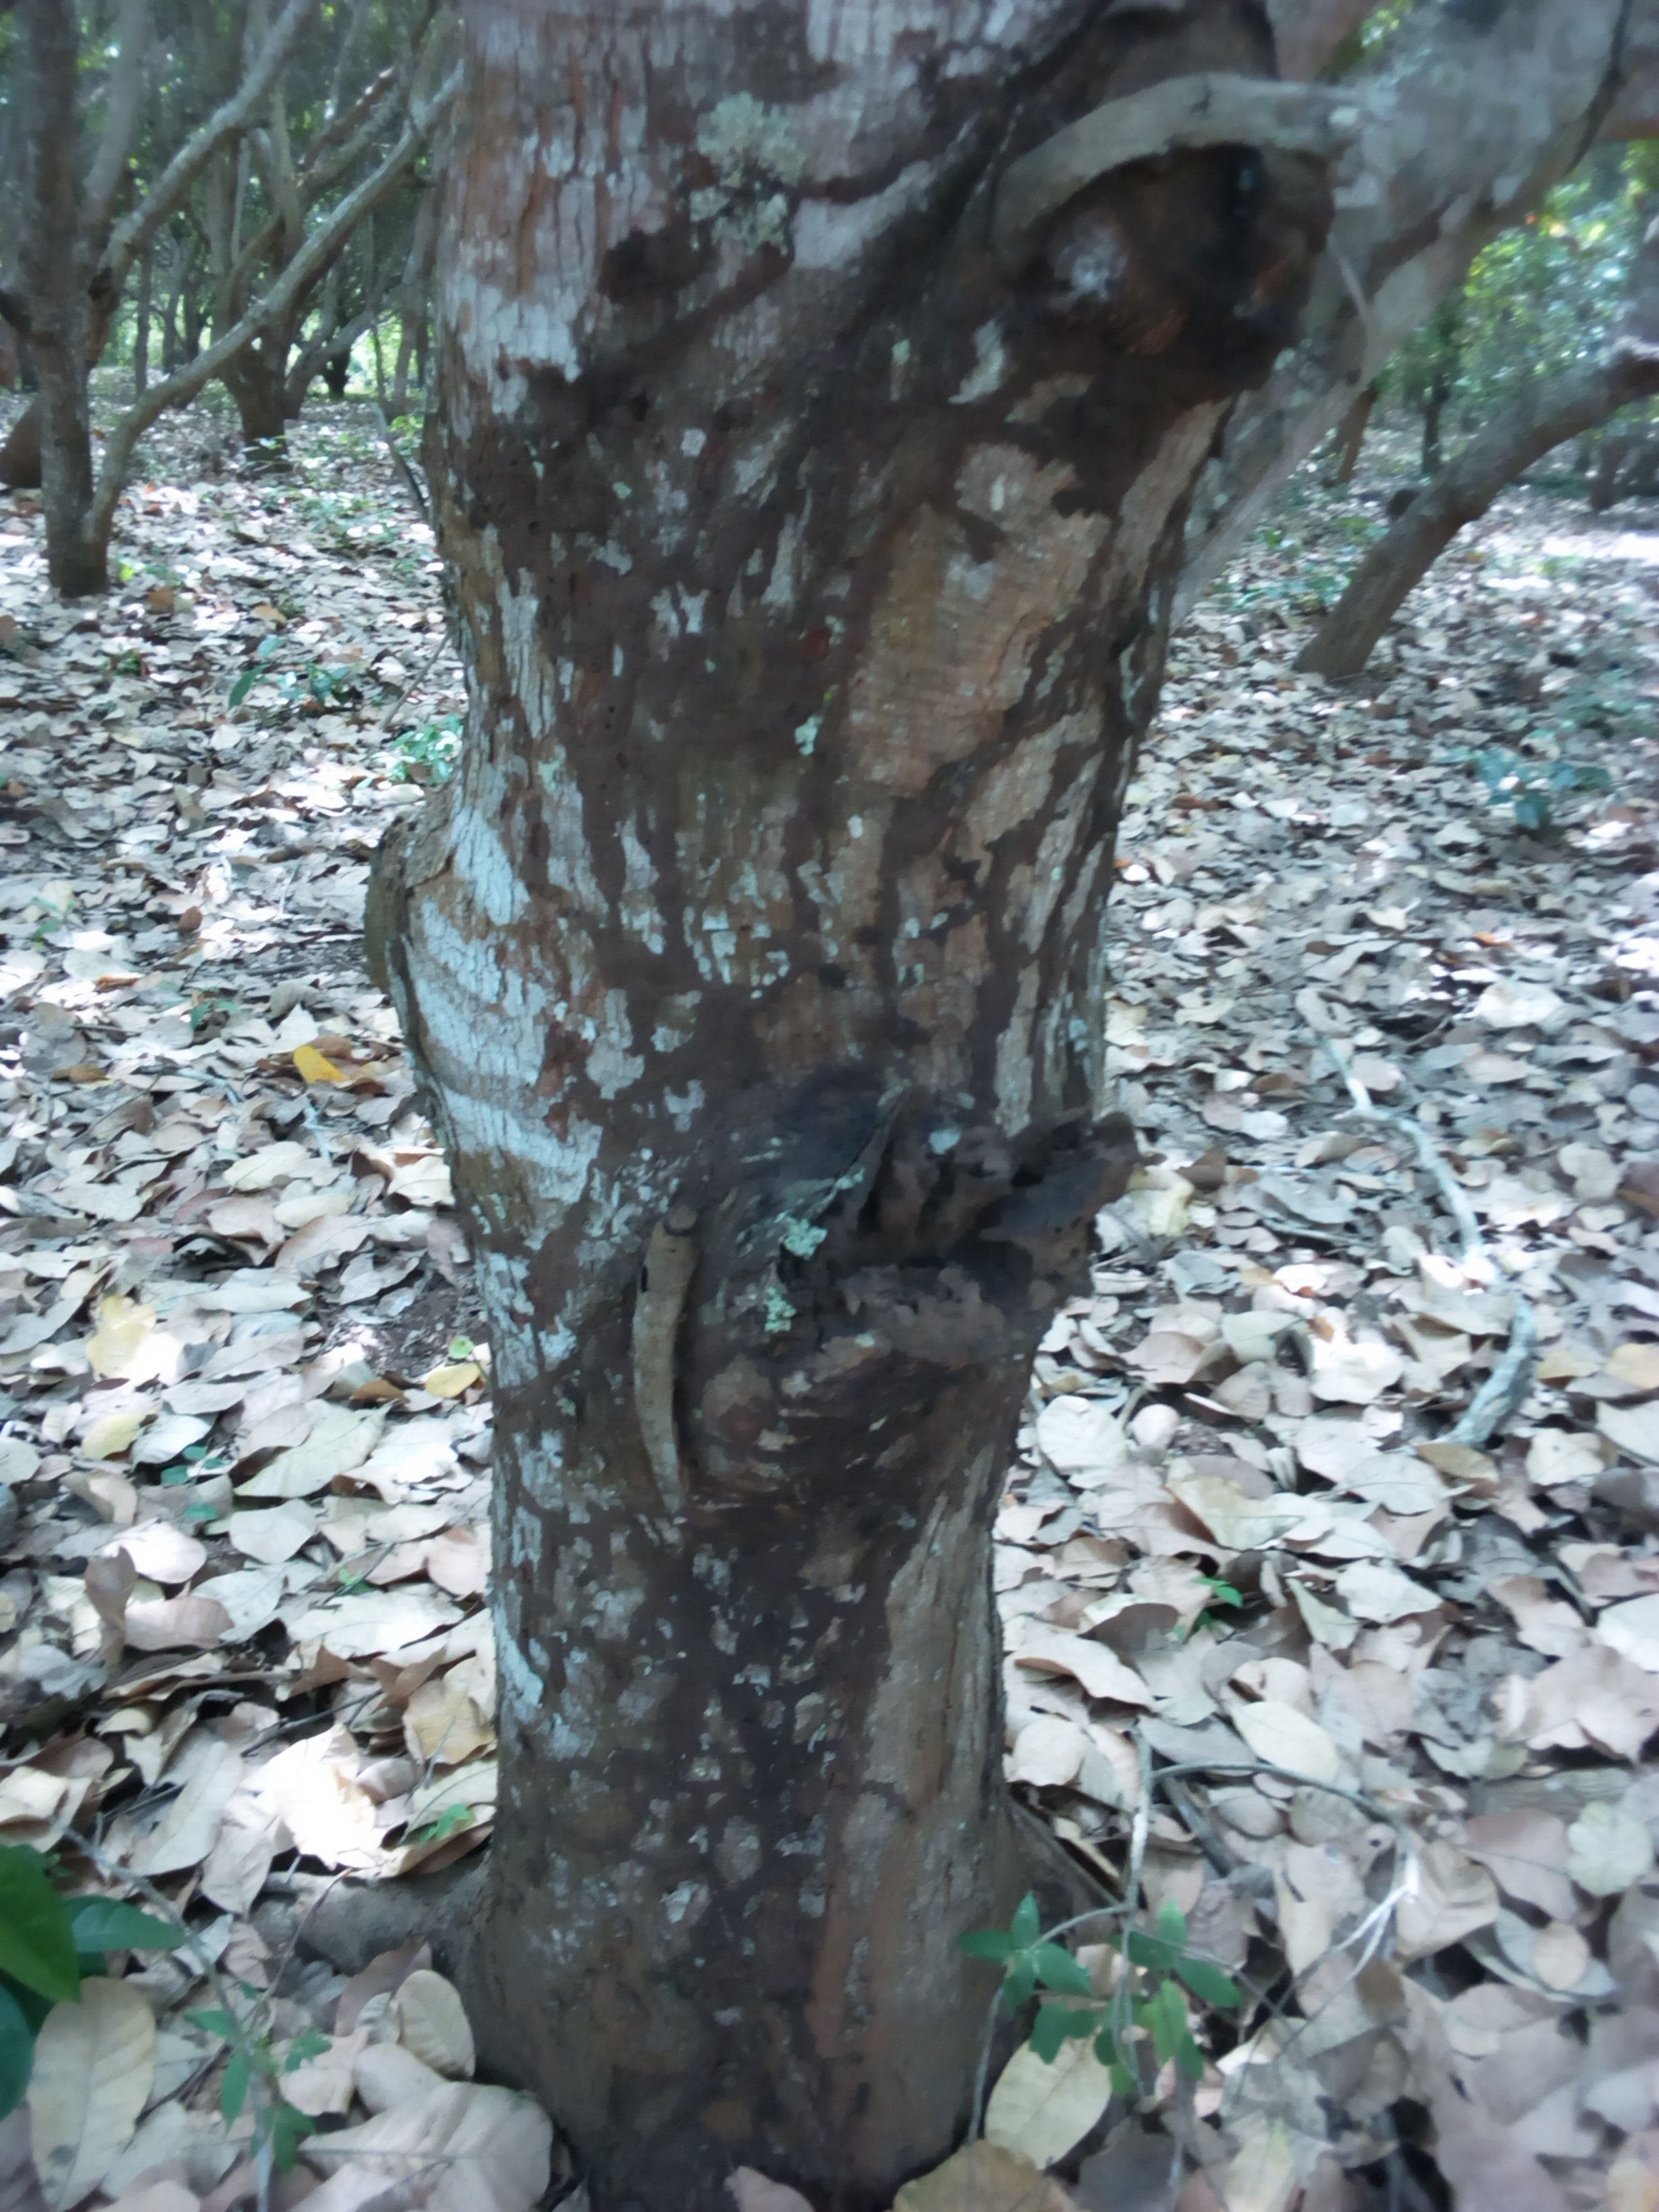Termites: (568, 296, 884, 1099), (690, 1489, 962, 2184), (934, 676, 1114, 1211)
